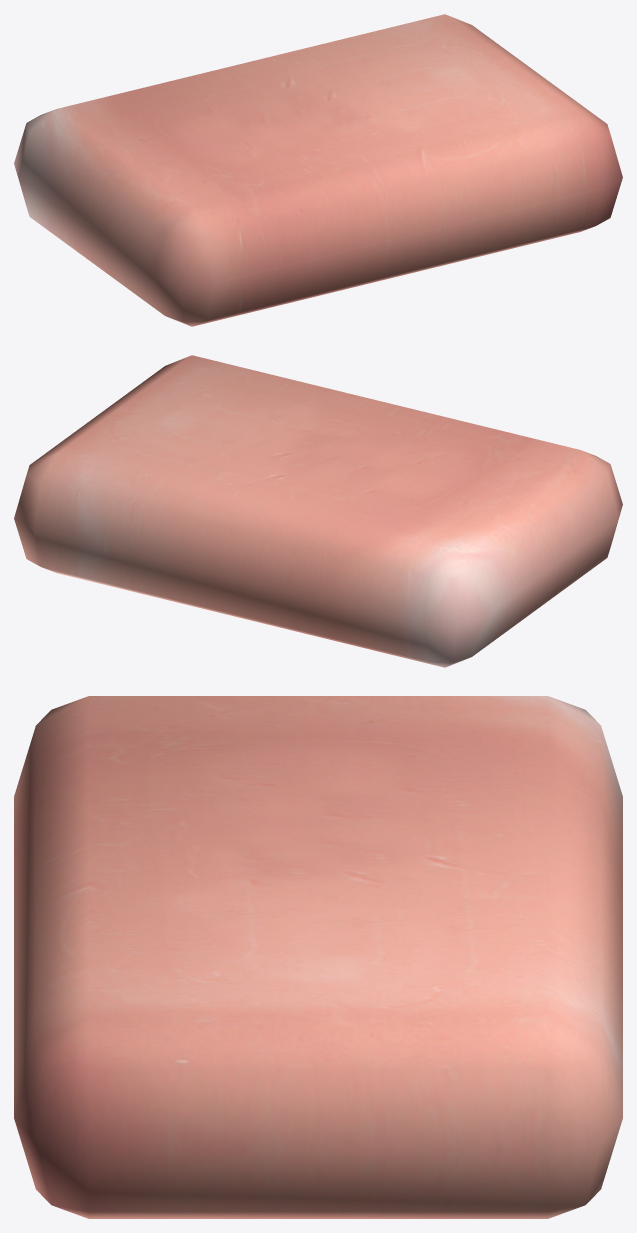
File: Soap.FBX
3 renders of one model, top to bottom at view 1: azimuth 30°, elevation 25°; view 2: azimuth 150°, elevation 25°; view 3: azimuth 270°, elevation 25°, orthographic. The views are drawn at different scales.
Parts seen in each view (by area): view 1: Soap; view 2: Soap; view 3: Soap.
Boxes of the visible parts, x1=… form: Soap: x1=14, y1=14, x2=622, y2=326; Soap: x1=14, y1=355, x2=622, y2=667; Soap: x1=14, y1=696, x2=622, y2=1218.
Size of the model in its own units: 4.79 by 1.17 by 3.21.
